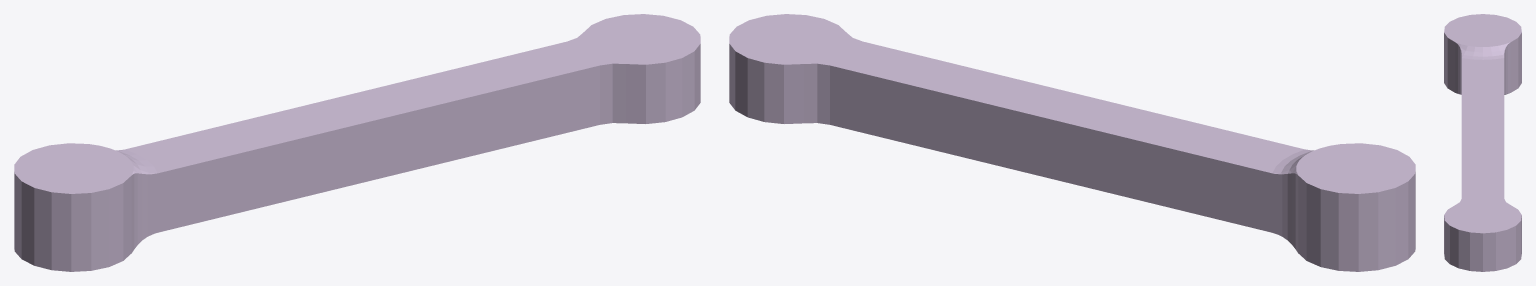
File: shoulder.glb
3 views of the same model, side by side, from view 1: azimuth 30°, elevation 25°; view 2: azimuth 150°, elevation 25°; view 3: azimuth 270°, elevation 25° (orthographic). The views are drawn at different scales.
Parts seen in each view (by area): view 1: Shoulder; view 2: Shoulder; view 3: Shoulder.
Boxes of the visible parts, x1=… form: Shoulder: x1=14, y1=14, x2=700, y2=271; Shoulder: x1=729, y1=14, x2=1415, y2=271; Shoulder: x1=1444, y1=14, x2=1521, y2=271.
Size of the model in its own units: 0.451 by 0.05 by 0.0696.
